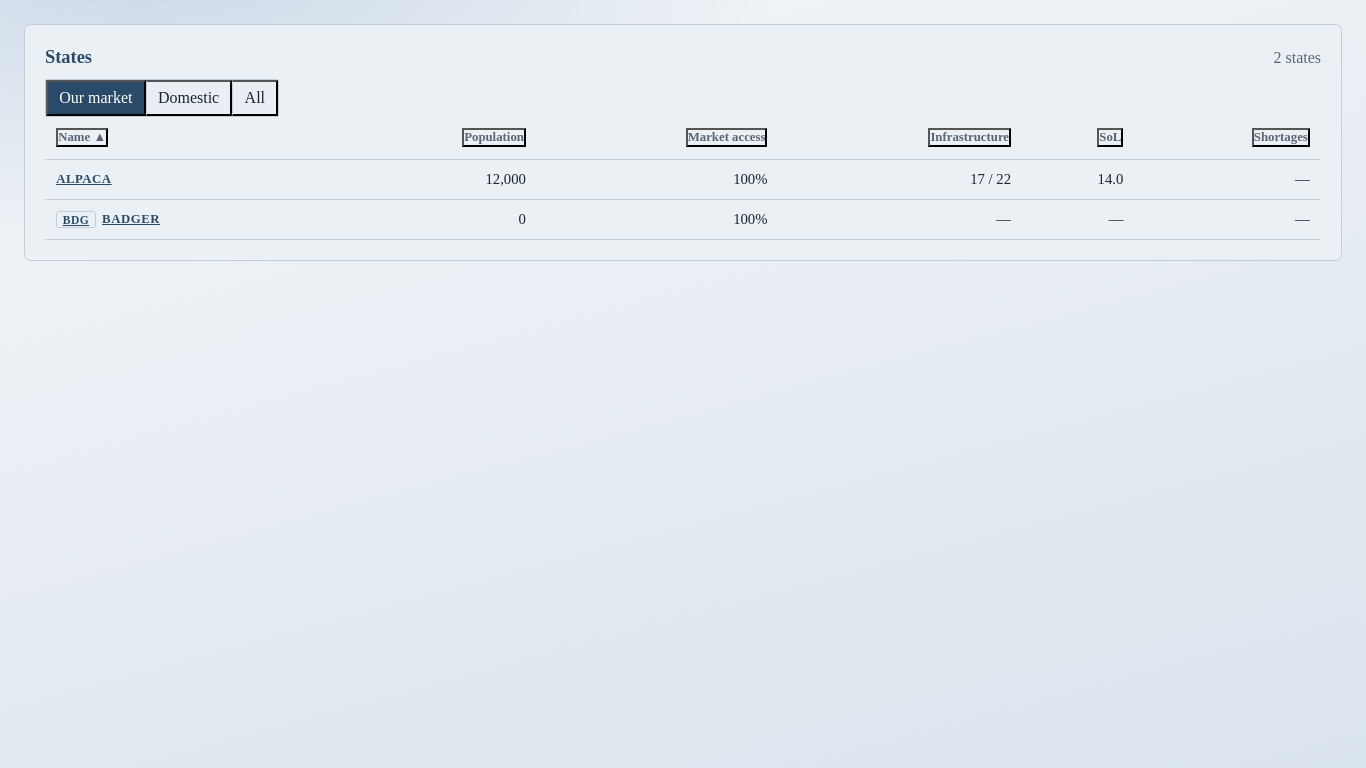
StatesPane › hides foreign states when Domestic is selected
The image size is (1366, 768).
Step 1. Click the button "Domestic" → point(189, 98), box [146, 80, 232, 116]
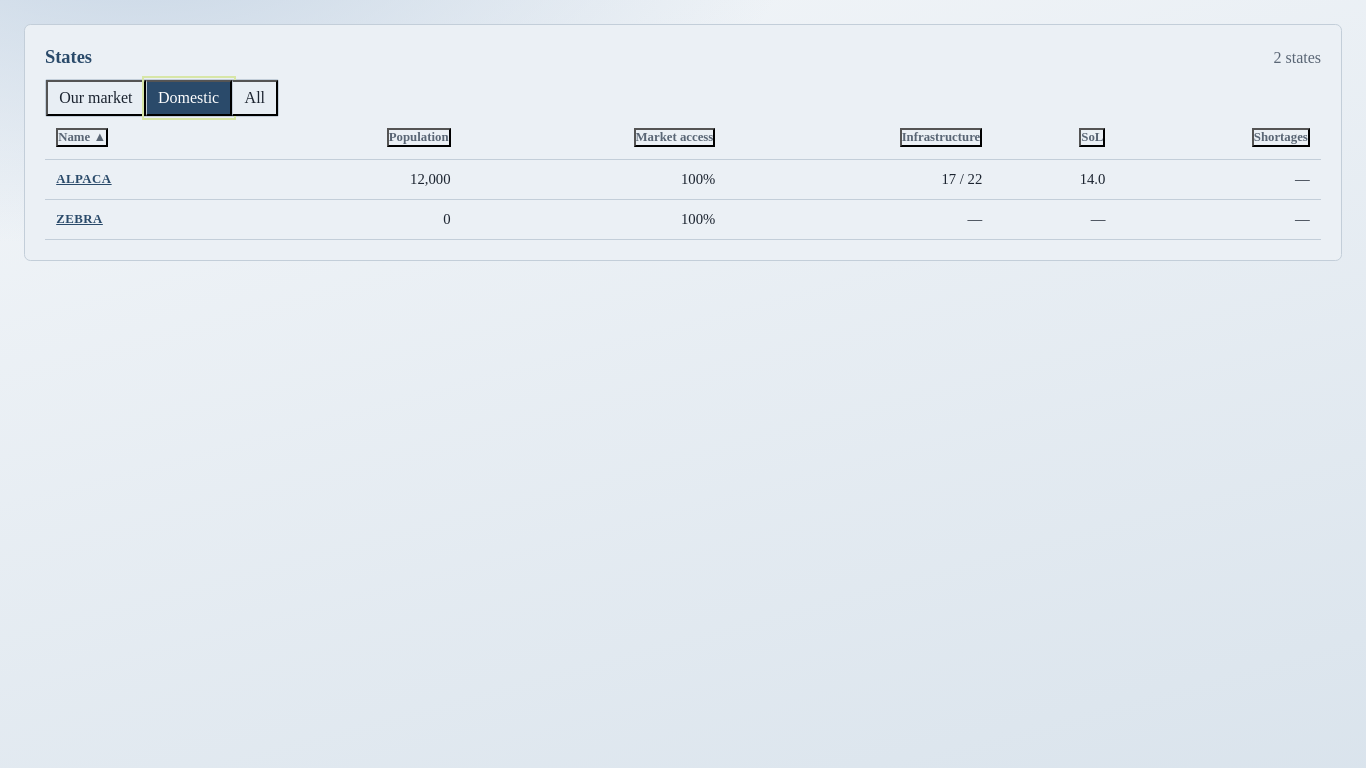
Check: the link "Alpaca" is shown, box [56, 172, 112, 187]
Check: the link "Zebra" is shown, box [56, 212, 103, 227]
Check: the link "Badger" is gone
